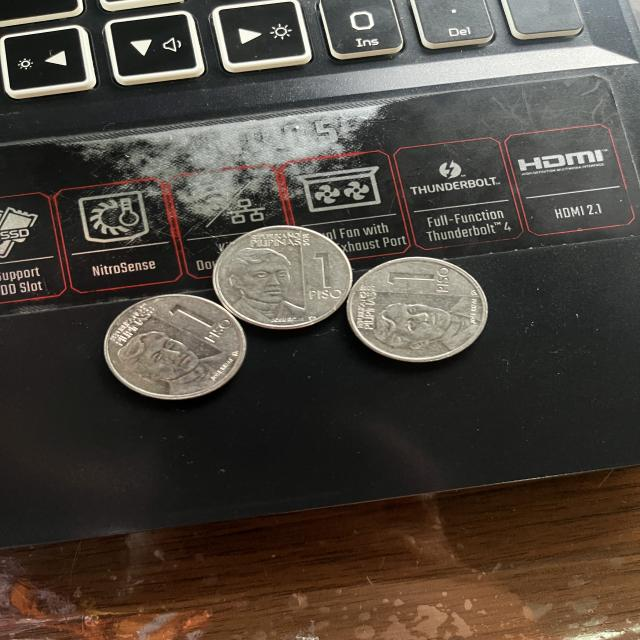1_New_Front: (118, 300, 230, 388), (237, 225, 342, 318), (366, 268, 490, 345)
